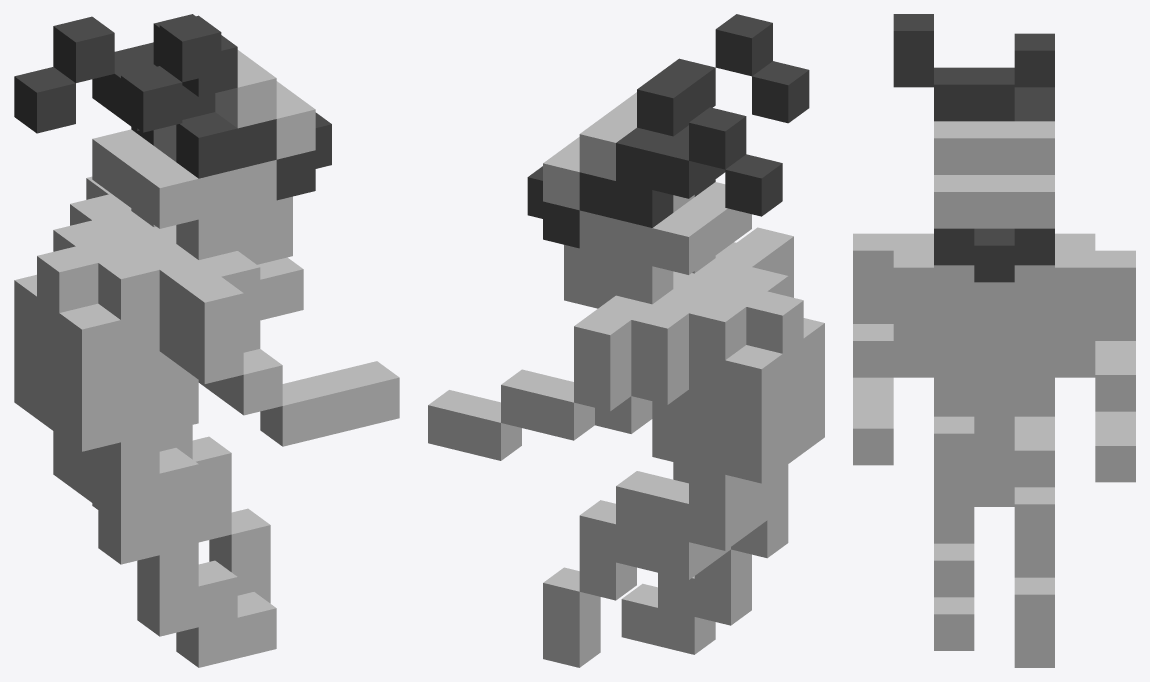
File: fall_01.fbx
The picture shows the model from 3 angles, left to right: view 1: azimuth 30°, elevation 25°; view 2: azimuth 150°, elevation 25°; view 3: azimuth 270°, elevation 25°; orthographic projection. The views are drawn at different scales.
Parts seen in each view (by area): view 1: Untitled.005, Untitled.003, Untitled.004; view 2: Untitled.005, Untitled.003, Untitled.004; view 3: Untitled.005, Untitled.003, Untitled.004.
Boxes of the visible parts, x1,y1,x2,y2 form: Untitled.005: (14,50,399,667); Untitled.003: (14,14,331,200); Untitled.004: (198,160,292,250); Untitled.005: (428,92,824,667); Untitled.003: (527,14,809,248); Untitled.004: (564,244,615,295); Untitled.005: (853,121,1135,667); Untitled.003: (893,14,1054,282); Untitled.004: (934,265,1054,301).
Size of the model in its own units: 80 by 160 by 70.
